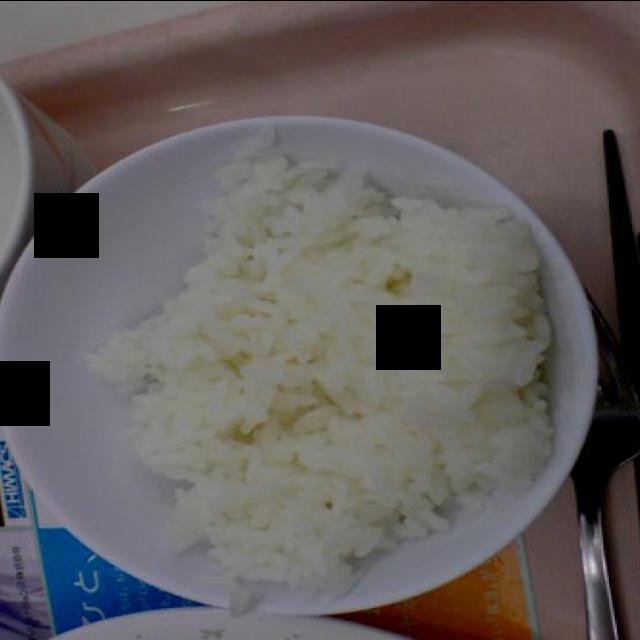rice: (83, 155, 551, 583)
